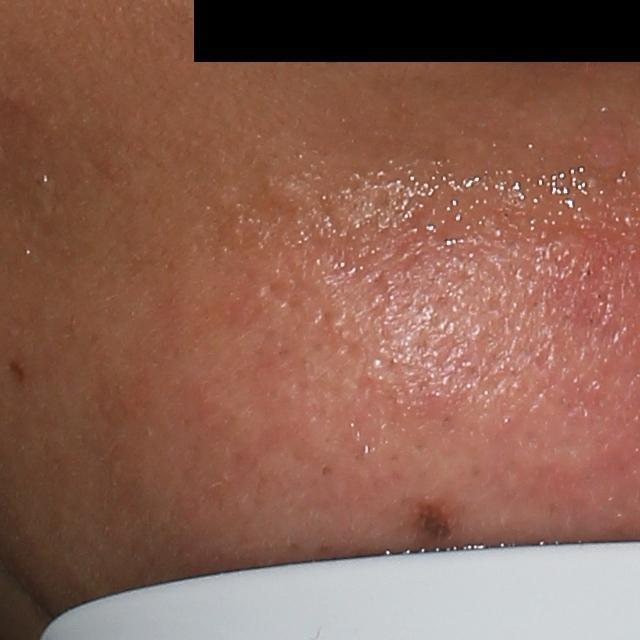atrophic_scar: (259, 280, 296, 310)
nevus: (411, 497, 457, 542), (9, 359, 30, 384)
